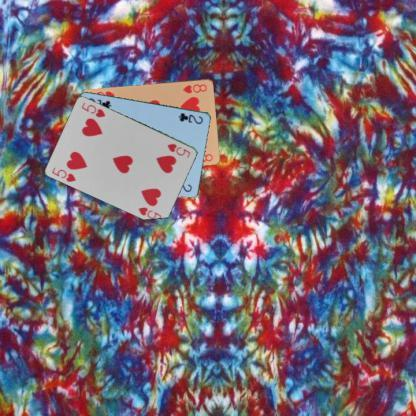2c: (176, 110, 204, 126)
5h: (50, 165, 77, 184), (164, 141, 192, 159)
8h: (180, 80, 208, 94)
